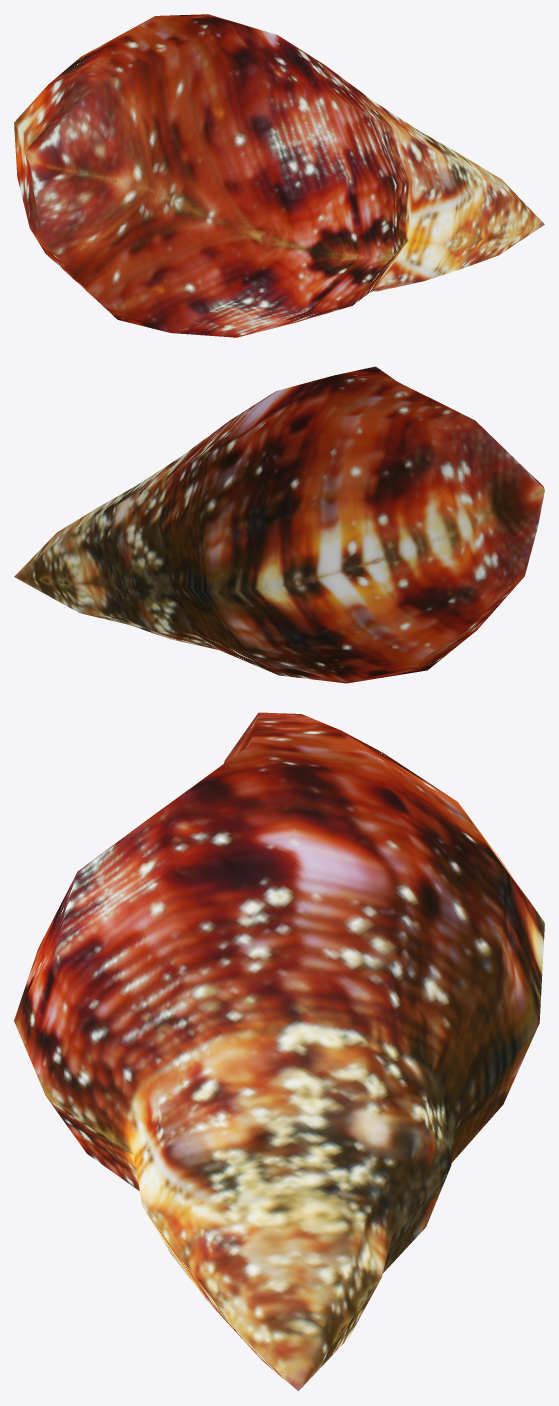
Rendered from SeaShell-03_LOD0_FattooCreater.glb.
The picture shows the model from 3 angles, top to bottom: view 1: azimuth 30°, elevation 25°; view 2: azimuth 150°, elevation 25°; view 3: azimuth 270°, elevation 25°; orthographic projection. The views are drawn at different scales.
Visible parts, largest first — view 1: SeaShell-03_high; view 2: SeaShell-03_high; view 3: SeaShell-03_high.
Part boxes in pixels (box(x1,y1,x2,y2)): SeaShell-03_high: box(14, 14, 544, 337); SeaShell-03_high: box(14, 366, 544, 683); SeaShell-03_high: box(14, 712, 544, 1391).
Bounding box in the file's own units: 0.0289 × 0.0155 × 0.018.
Materials: 1 (1 with a texture image).
